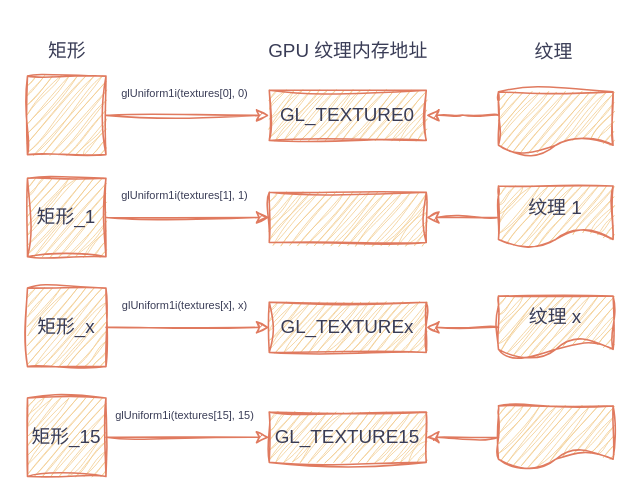
The diagram is 641 pixels wide and 504 high, and some of its shapes have lost their labels. Each missing label, with the box of its shape:
GL_TEXTURE1: (268, 191, 426, 243)
矩形_0: (26, 75, 106, 155)
纹理 0: (497, 90, 613, 155)
纹理 15: (497, 404, 613, 469)
